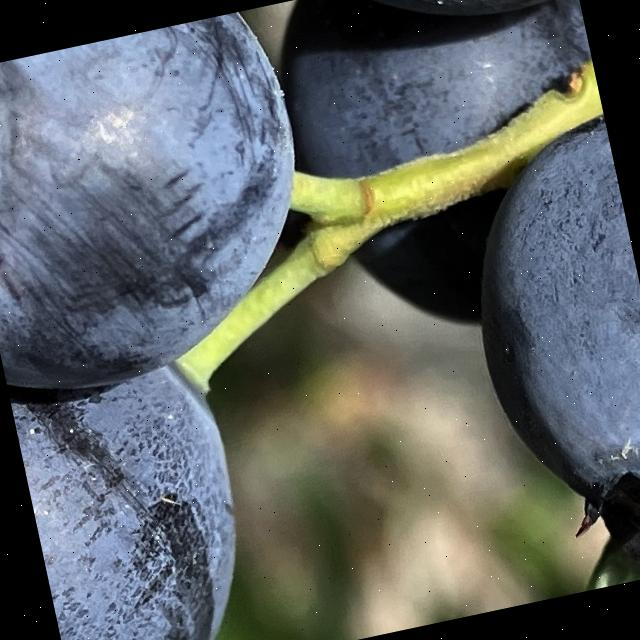Blueberries: (0, 0, 351, 397), (0, 253, 272, 640)
